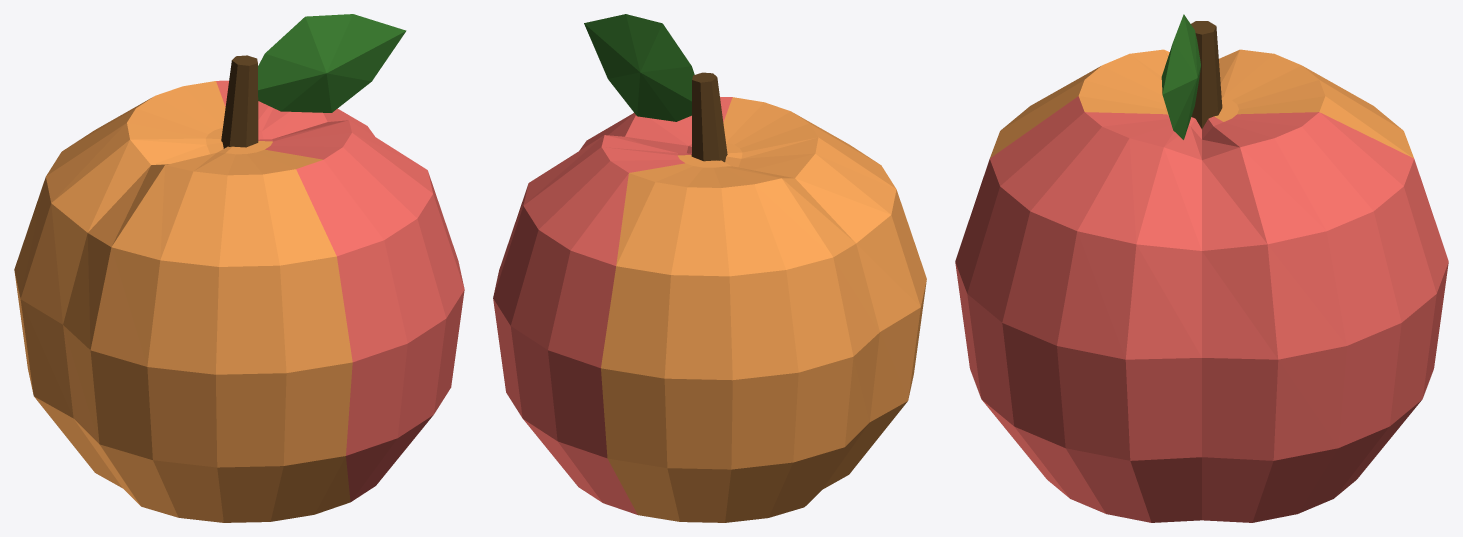
File: PeachFruit.obj
The picture shows the model from 3 angles, left to right: view 1: azimuth 30°, elevation 25°; view 2: azimuth 150°, elevation 25°; view 3: azimuth 270°, elevation 25°; orthographic projection. The views are drawn at different scales.
Visible parts, largest first — view 1: PeachFruit_PeachGold, PeachFruit_PeachBlush, PeachFruit_PeachLeaf, PeachFruit_PeachStem; view 2: PeachFruit_PeachGold, PeachFruit_PeachBlush, PeachFruit_PeachLeaf, PeachFruit_PeachStem; view 3: PeachFruit_PeachBlush, PeachFruit_PeachGold, PeachFruit_PeachLeaf, PeachFruit_PeachStem.
Boxes of the visible parts, x1,y1,x2,y2 form: PeachFruit_PeachGold: (14, 81, 352, 522); PeachFruit_PeachBlush: (216, 80, 464, 501); PeachFruit_PeachLeaf: (258, 14, 406, 112); PeachFruit_PeachStem: (221, 55, 258, 148); PeachFruit_PeachGold: (601, 97, 926, 522); PeachFruit_PeachBlush: (493, 97, 732, 514); PeachFruit_PeachLeaf: (584, 14, 694, 121); PeachFruit_PeachStem: (691, 72, 727, 162); PeachFruit_PeachBlush: (955, 96, 1448, 522); PeachFruit_PeachGold: (990, 49, 1413, 158); PeachFruit_PeachLeaf: (1161, 14, 1200, 139); PeachFruit_PeachStem: (1191, 21, 1222, 128).
Bounding box in the file's own units: 0.9378 × 1.14 × 1.
